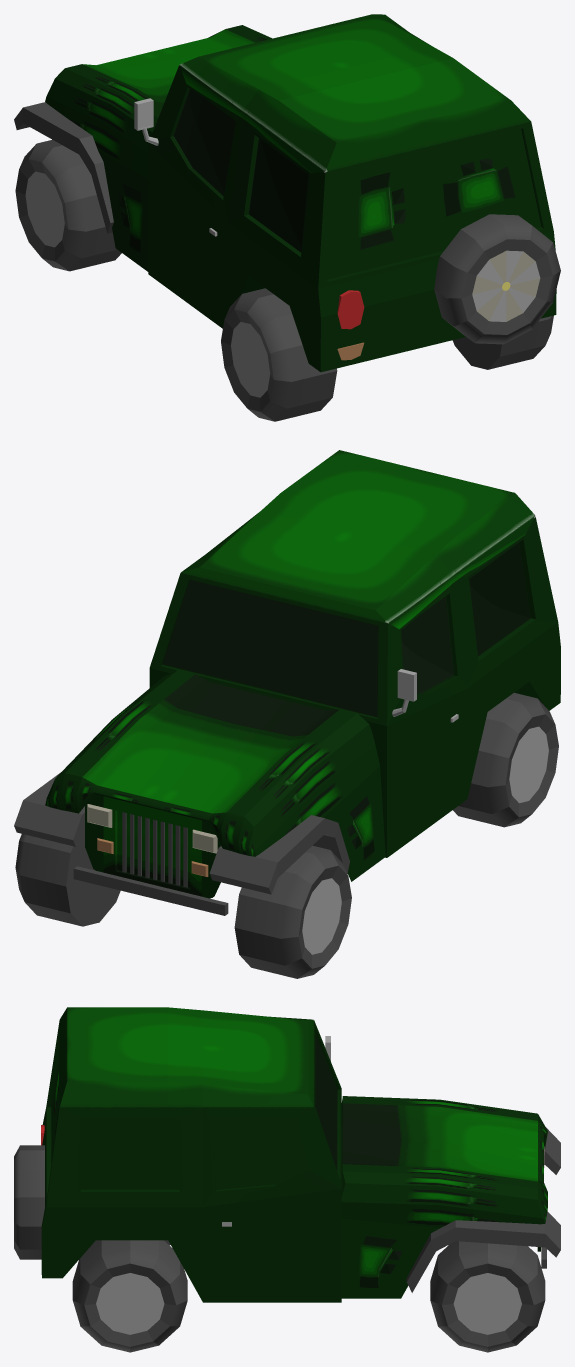
The model's file is jeep.fbx.
3 renders of one model, top to bottom at view 1: azimuth 30°, elevation 25°; view 2: azimuth 150°, elevation 25°; view 3: azimuth 270°, elevation 25°, orthographic. The views are drawn at different scales.
Parts seen in each view (by area): view 1: Carrozzeria_auto, Cofano_anteriore, Ruota_ant_sx1, Ruota_post_sx, Ruota_ant_sx, Copriruota_anteriori, Ruota_post_dx, Stop_posteriori, Specchietto; view 2: Carrozzeria_auto, Cofano_anteriore, Ruota_ant_sx, Ruota_post_sx, Copriruota_anteriori, Radiatore_anteriore, Ruota_ant_dx, Radiatore, Parafango_anteriore, Fari_anteriori.001, Specchietto; view 3: Carrozzeria_auto, Cofano_anteriore, Ruota_post_dx, Ruota_ant_dx, Copriruota_anteriori, Ruota_ant_sx1.
Part boxes in pixels (x1=…): Carrozzeria_auto: x1=148, y1=14, x2=556, y2=372; Cofano_anteriore: x1=45, y1=25, x2=272, y2=271; Ruota_ant_sx1: x1=434, y1=214, x2=560, y2=344; Ruota_post_sx: x1=221, y1=288, x2=337, y2=421; Ruota_ant_sx: x1=15, y1=139, x2=121, y2=271; Copriruota_anteriori: x1=14, y1=102, x2=113, y2=233; Ruota_post_dx: x1=452, y1=315, x2=553, y2=369; Stop_posteriori: x1=337, y1=290, x2=364, y2=329; Specchietto: x1=134, y1=98, x2=158, y2=145; Carrozzeria_auto: x1=149, y1=450, x2=560, y2=857; Cofano_anteriore: x1=45, y1=669, x2=385, y2=881; Ruota_ant_sx: x1=234, y1=845, x2=351, y2=978; Ruota_post_sx: x1=453, y1=692, x2=558, y2=827; Copriruota_anteriori: x1=14, y1=772, x2=349, y2=894; Radiatore_anteriore: x1=85, y1=794, x2=220, y2=898; Ruota_ant_dx: x1=15, y1=828, x2=120, y2=926; Radiatore: x1=122, y1=812, x2=187, y2=887; Parafango_anteriore: x1=73, y1=866, x2=228, y2=915; Fari_anteriori.001: x1=87, y1=804, x2=217, y2=853; Specchietto: x1=392, y1=669, x2=416, y2=716; Carrozzeria_auto: x1=41, y1=1007, x2=341, y2=1302; Cofano_anteriore: x1=341, y1=1096, x2=547, y2=1298; Ruota_post_dx: x1=72, y1=1240, x2=187, y2=1352; Ruota_ant_dx: x1=430, y1=1241, x2=545, y2=1352; Copriruota_anteriori: x1=406, y1=1127, x2=560, y2=1292; Ruota_ant_sx1: x1=14, y1=1145, x2=44, y2=1259.
Size of the model in its own units: 35.34 by 34.98 by 68.46.
